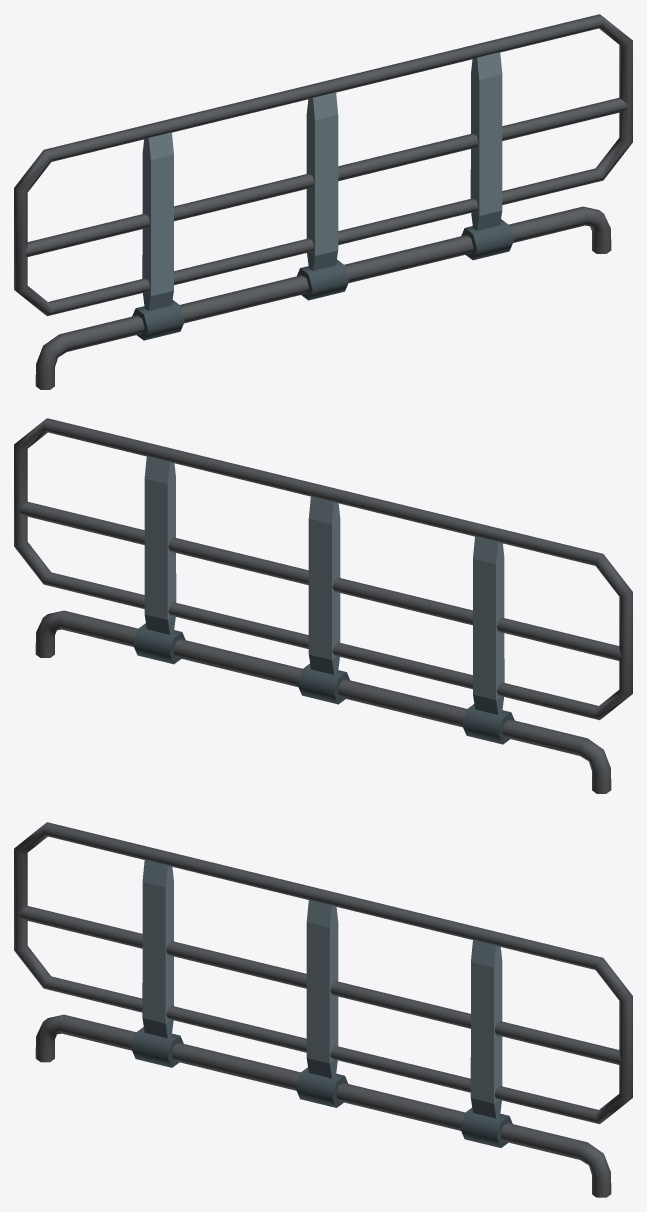
Rendered from Fence_type_B_003.fbx.
The picture shows the model from 3 angles, top to bottom: view 1: azimuth 30°, elevation 25°; view 2: azimuth 150°, elevation 25°; view 3: azimuth 330°, elevation 25°; orthographic projection.
Visible parts, largest first — view 1: Fence_type_B_003; view 2: Fence_type_B_003; view 3: Fence_type_B_003.
Part boxes in pixels (x1=…): Fence_type_B_003: x1=14, y1=14, x2=632, y2=389; Fence_type_B_003: x1=14, y1=418, x2=632, y2=793; Fence_type_B_003: x1=14, y1=822, x2=632, y2=1197.
Size of the model in its own units: 390 by 18.39 by 142.
